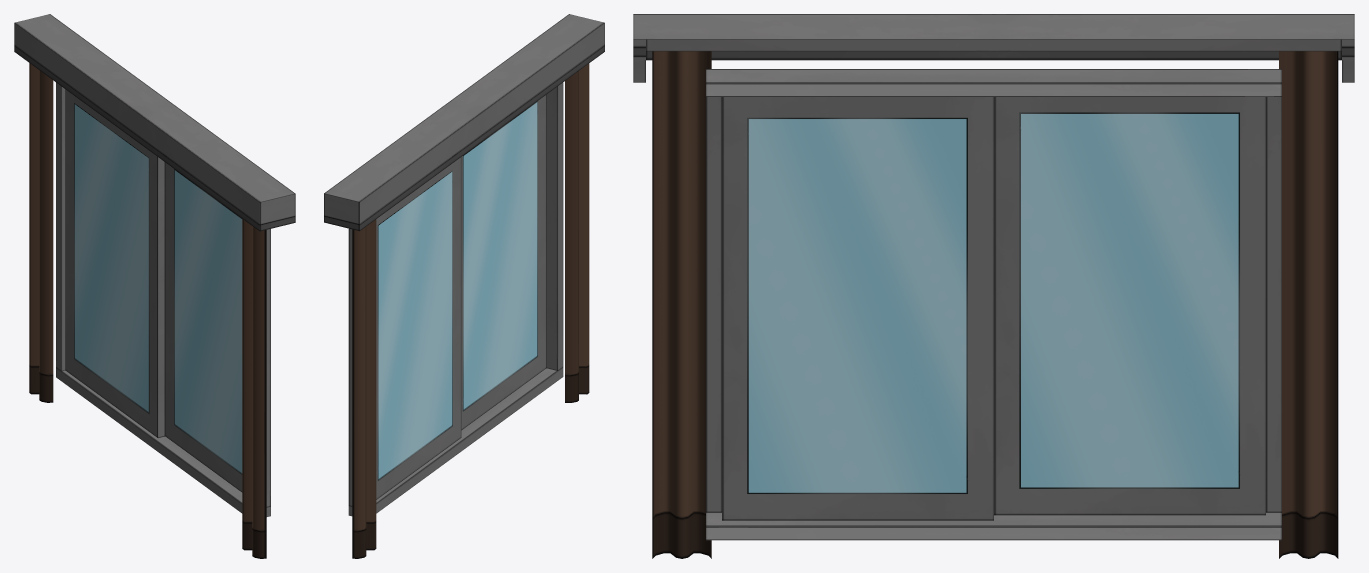
File: window1.fbx
3 renders of one model, left to right at view 1: azimuth 30°, elevation 25°; view 2: azimuth 150°, elevation 25°; view 3: azimuth 270°, elevation 25°, orthographic. The views are drawn at different scales.
Visible parts, largest first — view 1: polySurface902; view 2: polySurface902; view 3: polySurface902.
Boxes of the visible parts, x1,y1,x2,y2 form: polySurface902: [14, 14, 295, 558]; polySurface902: [324, 14, 604, 558]; polySurface902: [633, 14, 1354, 558].
Bounding box in the file's own units: 0.1521 × 1.48 × 1.81.
